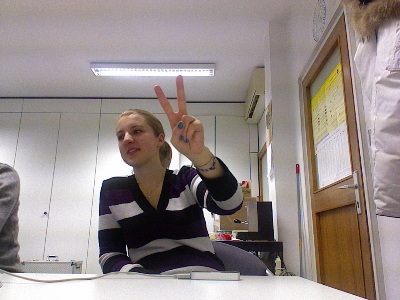剪刀: (153, 73, 205, 157)
